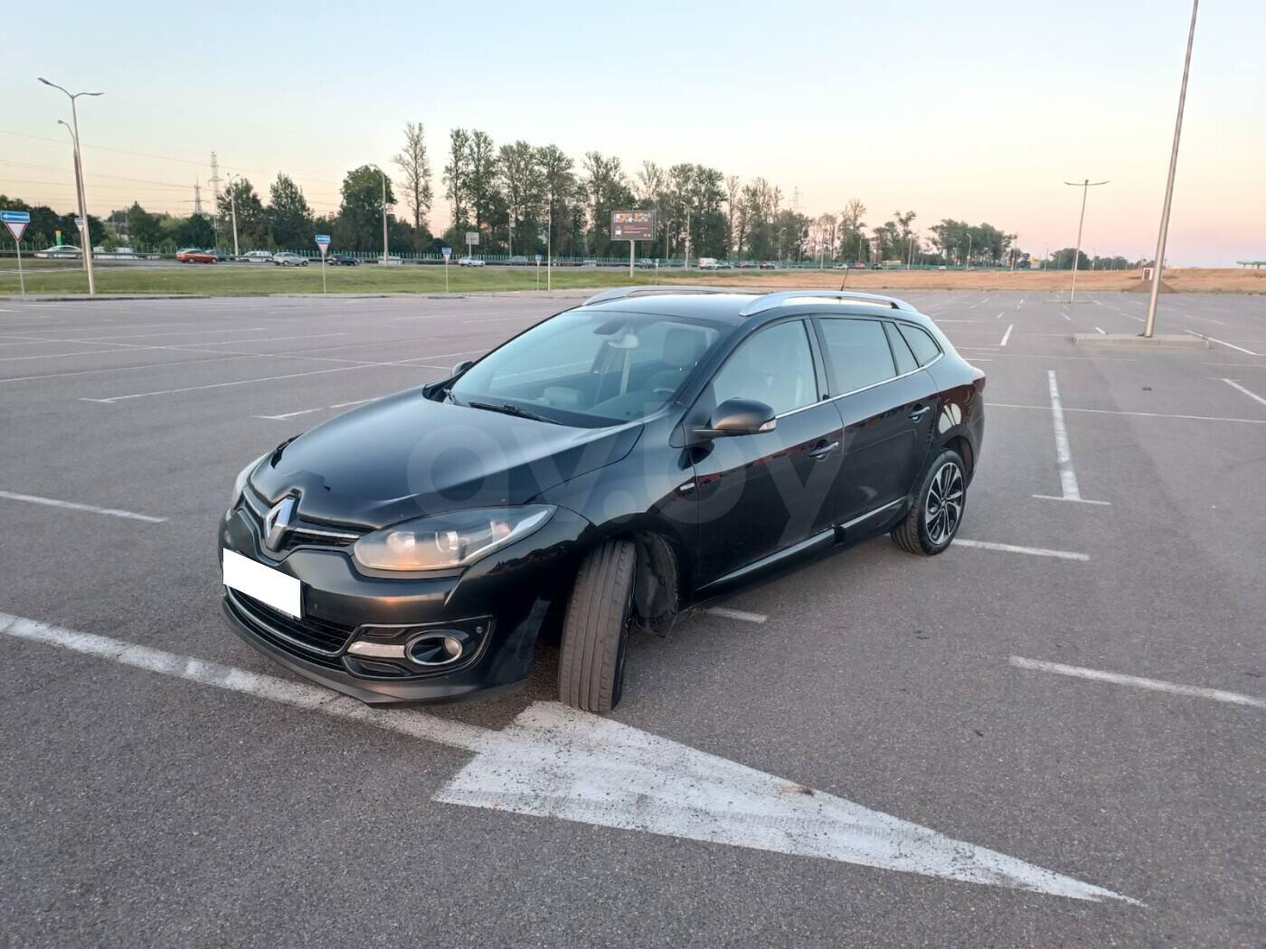Megane_2014-2016: (218, 281, 996, 715)
